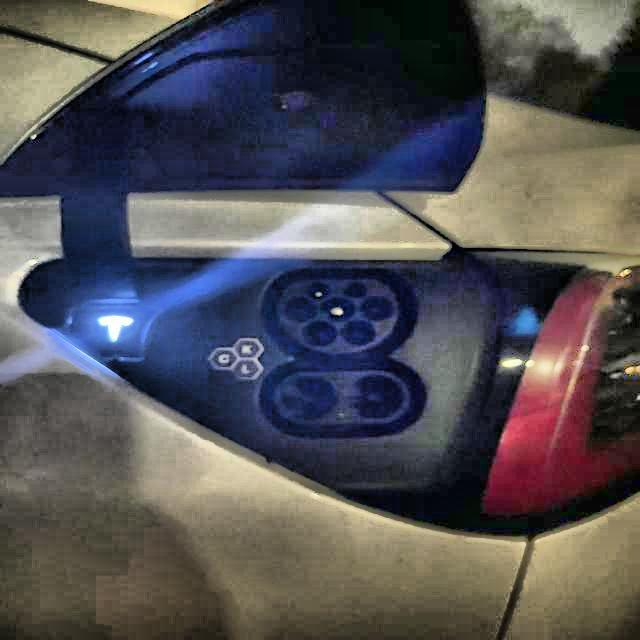inlet: (277, 279, 400, 353)
inlet-above-left: (306, 282, 331, 299)
inlet-above-right: (343, 281, 367, 298)
inlet-below-left: (302, 321, 337, 346)
inlet-below-right: (342, 319, 374, 344)
inlet-center: (321, 297, 354, 321)
inlet-center-left: (284, 296, 317, 323)
inlet-center-right: (361, 296, 392, 321)
